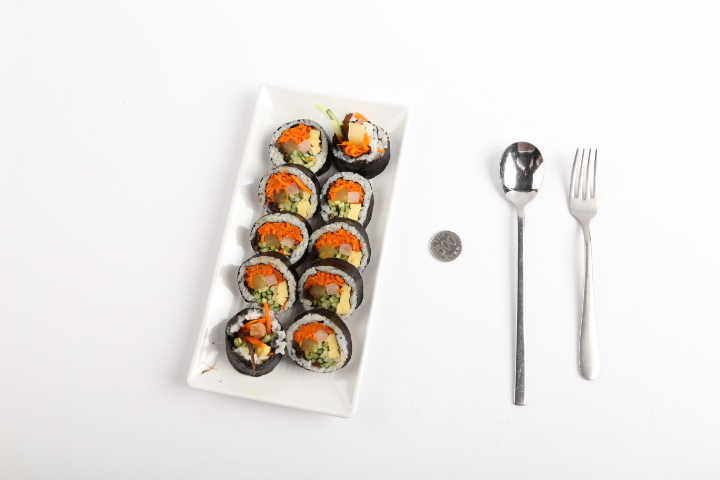dish: (186, 88, 408, 419)
ref_coin: (430, 230, 462, 262)
ref_fork: (569, 148, 598, 229)
ref_spoon: (499, 141, 544, 215)
김밥: (225, 120, 391, 377)
